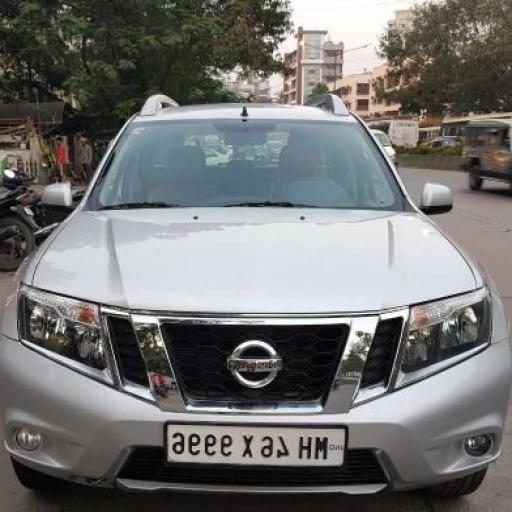License: (164, 417, 355, 466)
